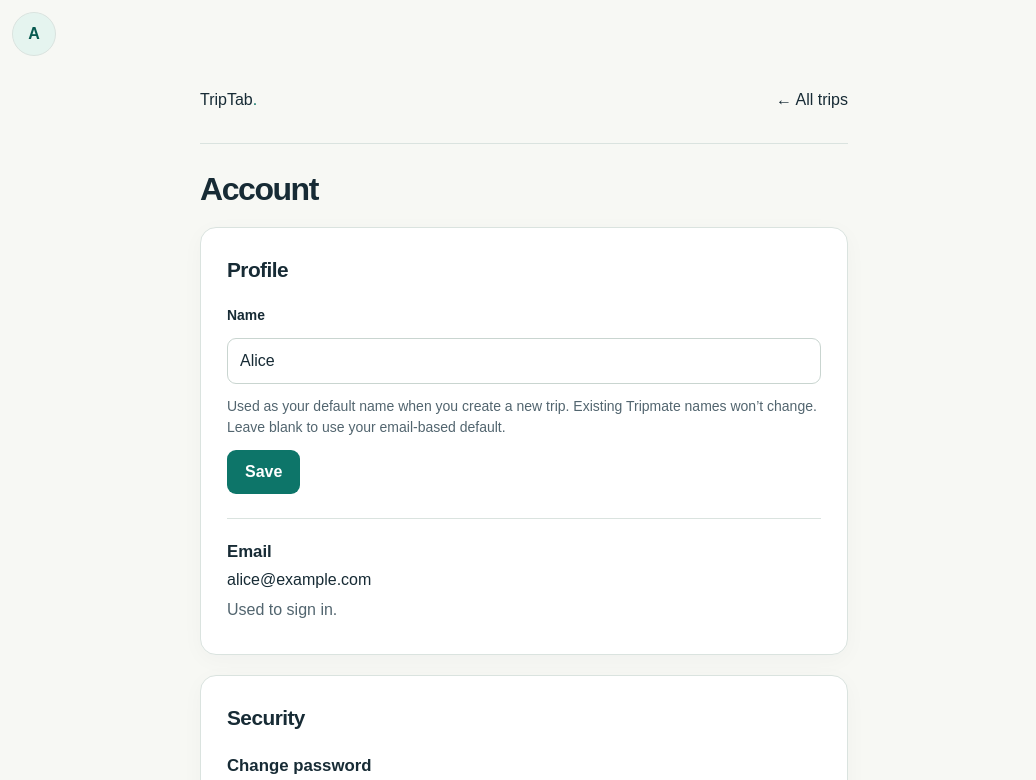
can clear the optional name without inventing a persisted fallback
This screenshot has width=1036, height=780.
Clear the field labelled "Name" at (524, 361), box 227,338 -> 821,384
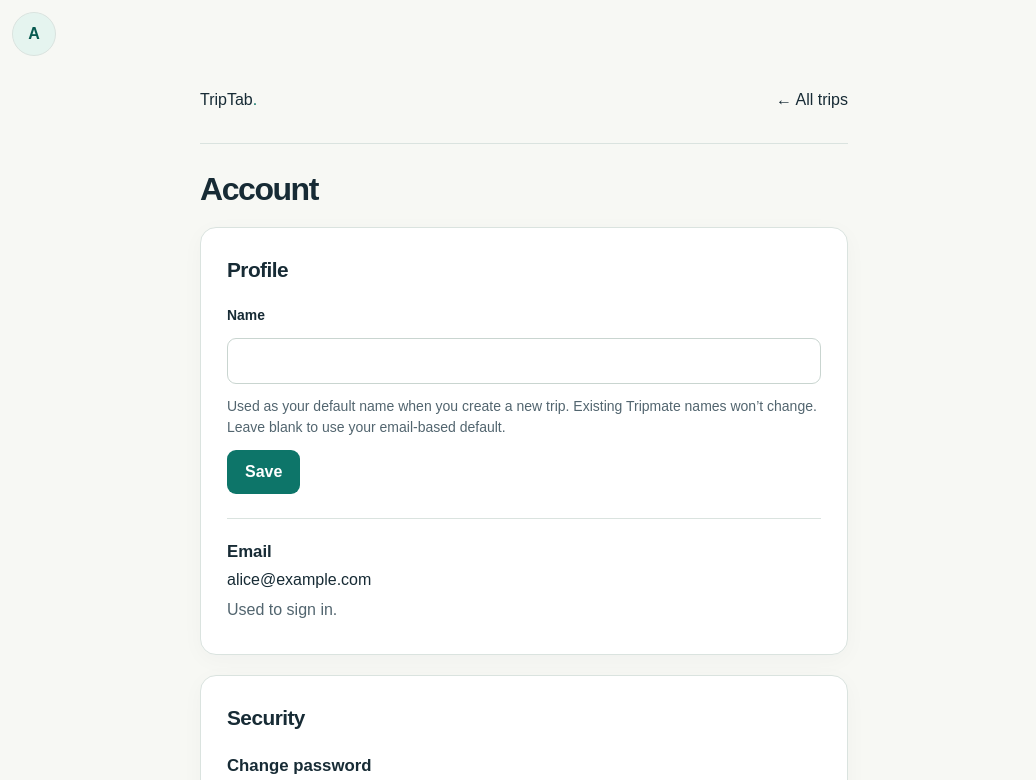
Submit the form labelled "Name", box 227,305 -> 821,494
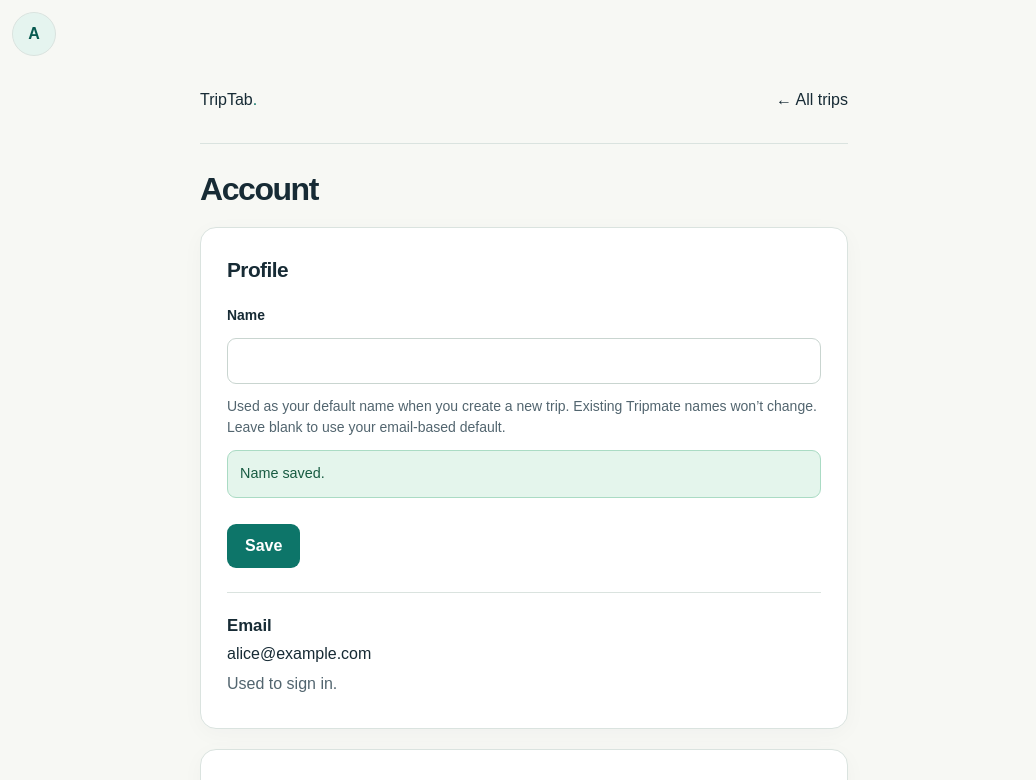
Expected: the text "Name saved." is shown, 227,450 -> 821,498
